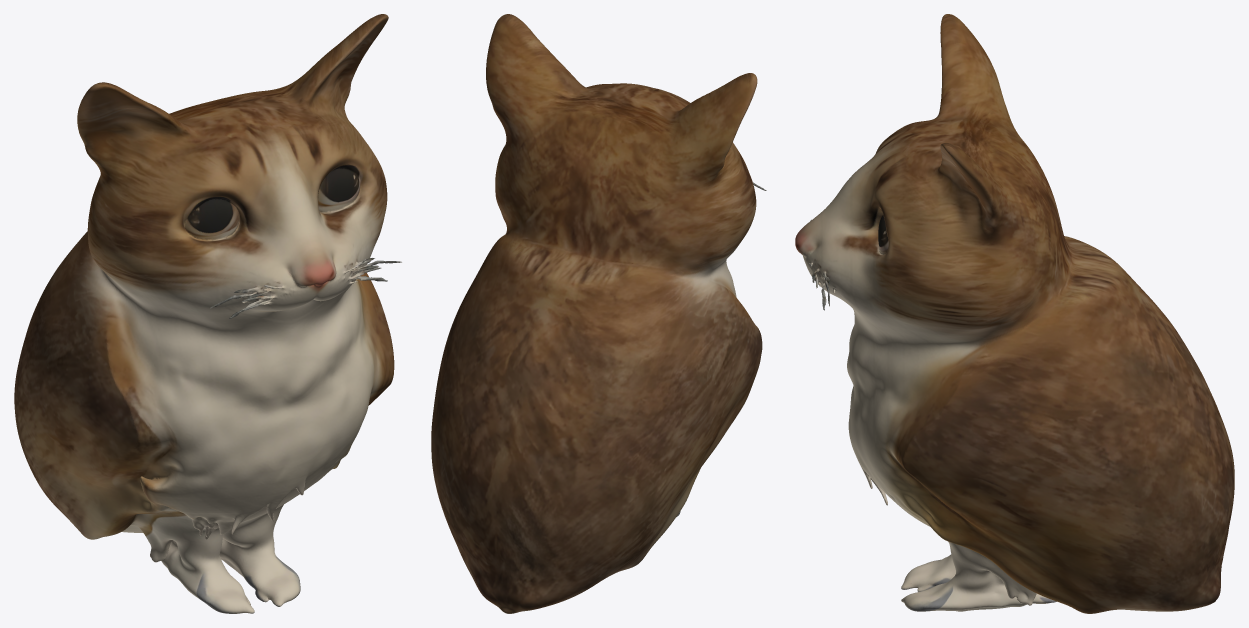
File: meowl.glb
The picture shows the model from 3 angles, left to right: view 1: azimuth 30°, elevation 25°; view 2: azimuth 150°, elevation 25°; view 3: azimuth 270°, elevation 25°; orthographic projection. The views are drawn at different scales.
Visible parts, largest first — view 1: tripo_node_32af624d-68c8-4d54-9edb-2ae08dcc086c; view 2: tripo_node_32af624d-68c8-4d54-9edb-2ae08dcc086c; view 3: tripo_node_32af624d-68c8-4d54-9edb-2ae08dcc086c.
Boxes of the visible parts, bbox=[...] form: tripo_node_32af624d-68c8-4d54-9edb-2ae08dcc086c: bbox=[14, 14, 401, 613]; tripo_node_32af624d-68c8-4d54-9edb-2ae08dcc086c: bbox=[431, 14, 766, 613]; tripo_node_32af624d-68c8-4d54-9edb-2ae08dcc086c: bbox=[795, 14, 1234, 613].
Size of the model in its own units: 0.5669 by 1 by 0.7631.
Materials: 1 (1 with a texture image).
